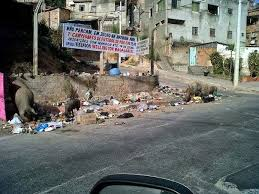rubble: (60, 83, 207, 107)
